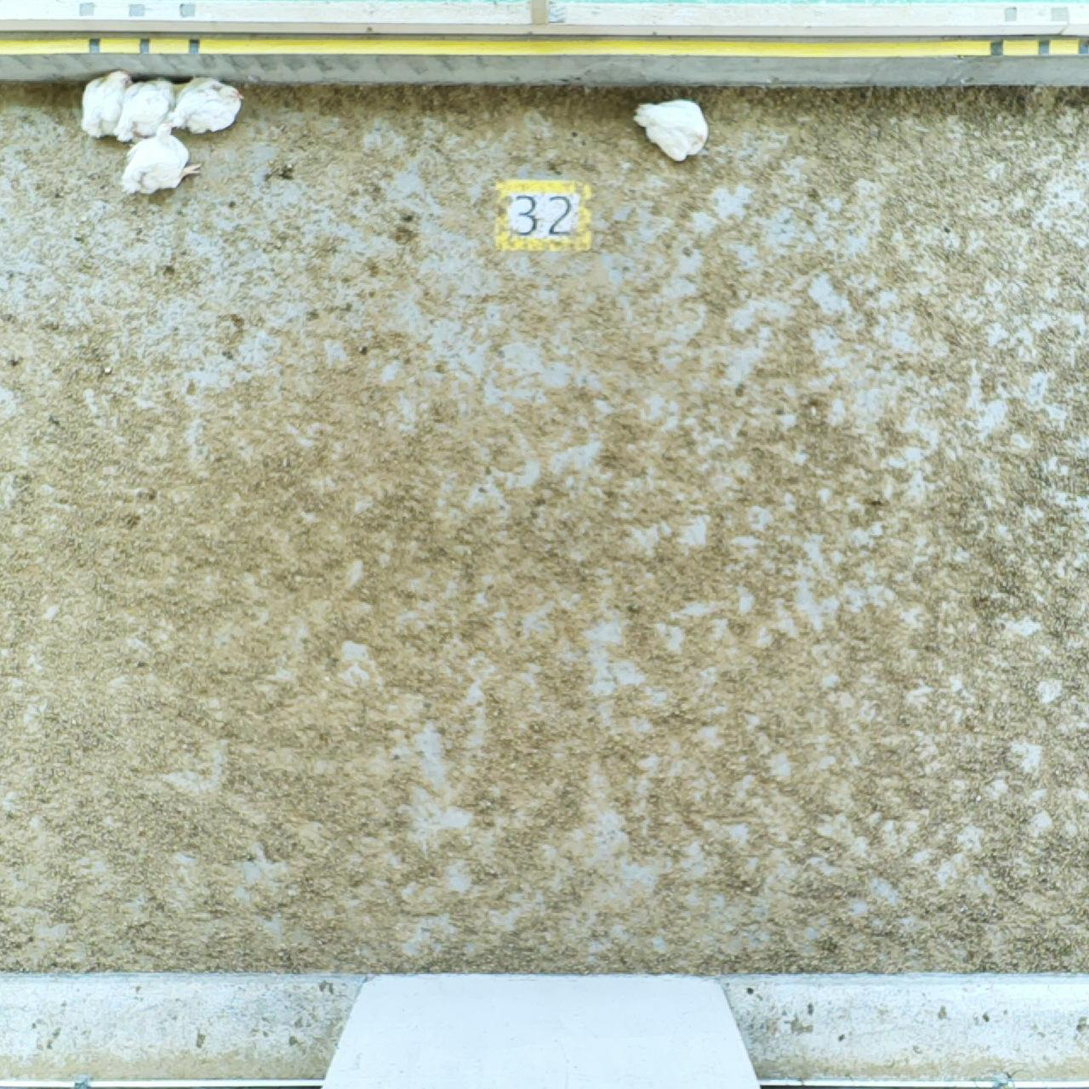chicken: (118, 131, 205, 198), (630, 97, 712, 164), (109, 74, 178, 145), (166, 74, 245, 136), (77, 67, 134, 140)
